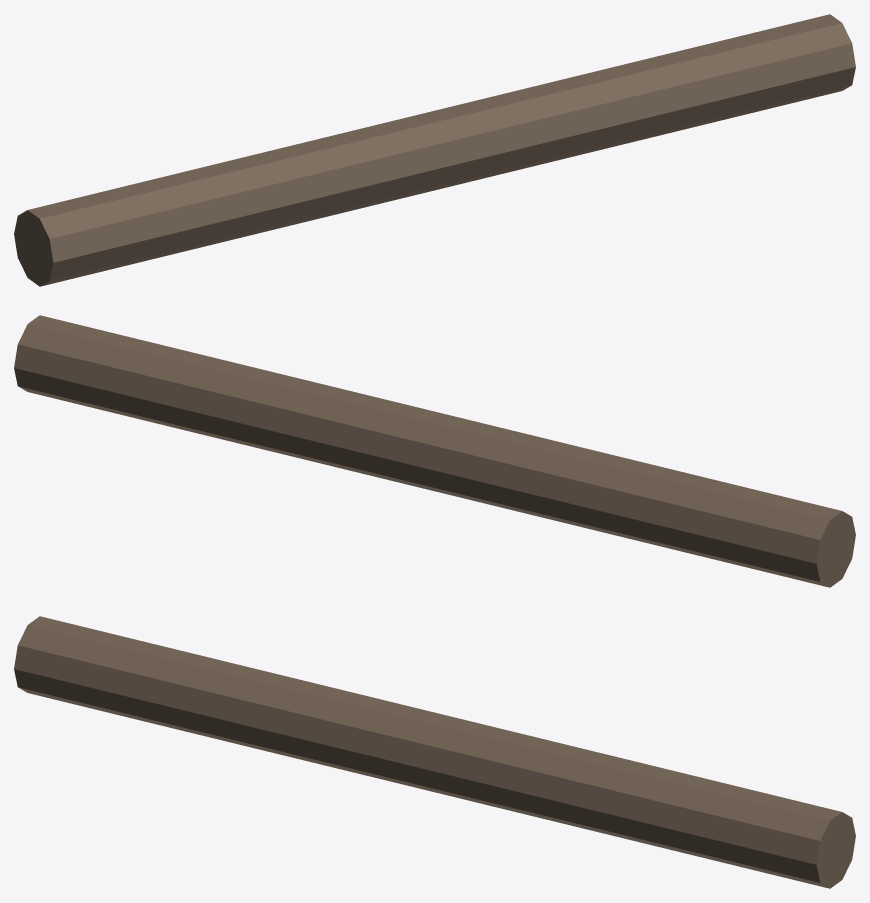
File: eaves_intact.glb
3 views of the same model, one above another, from view 1: azimuth 30°, elevation 25°; view 2: azimuth 150°, elevation 25°; view 3: azimuth 330°, elevation 25° (orthographic).
Parts seen in each view (by area): view 1: Body.043; view 2: Body.043; view 3: Body.043.
Part boxes in pixels (x1,y1,x2,y2): Body.043: [14, 14, 855, 286]; Body.043: [14, 315, 855, 587]; Body.043: [14, 616, 855, 888].
Bounding box in the file's own units: 2 × 0.1617 × 0.17.
